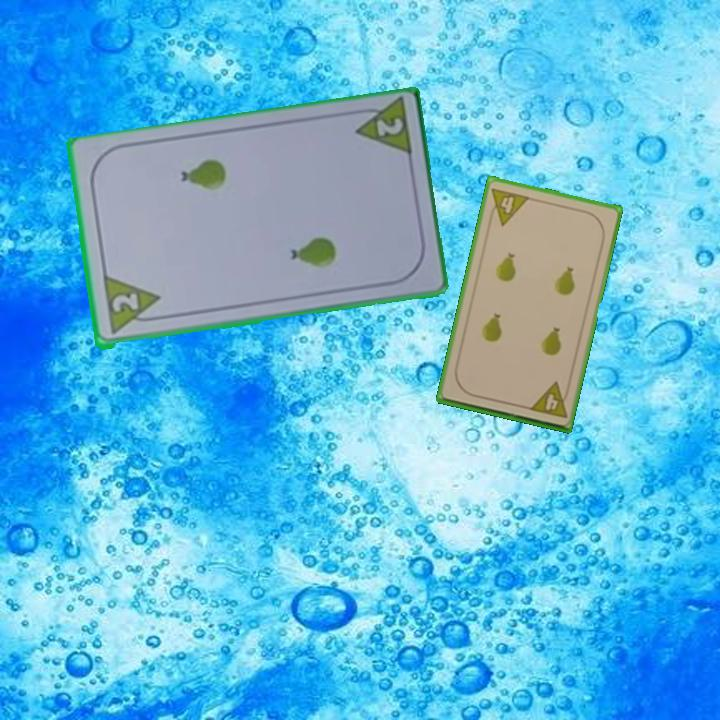2p: (99, 274, 165, 338), (372, 114, 406, 140)
4p: (484, 184, 532, 228), (526, 379, 572, 421)
